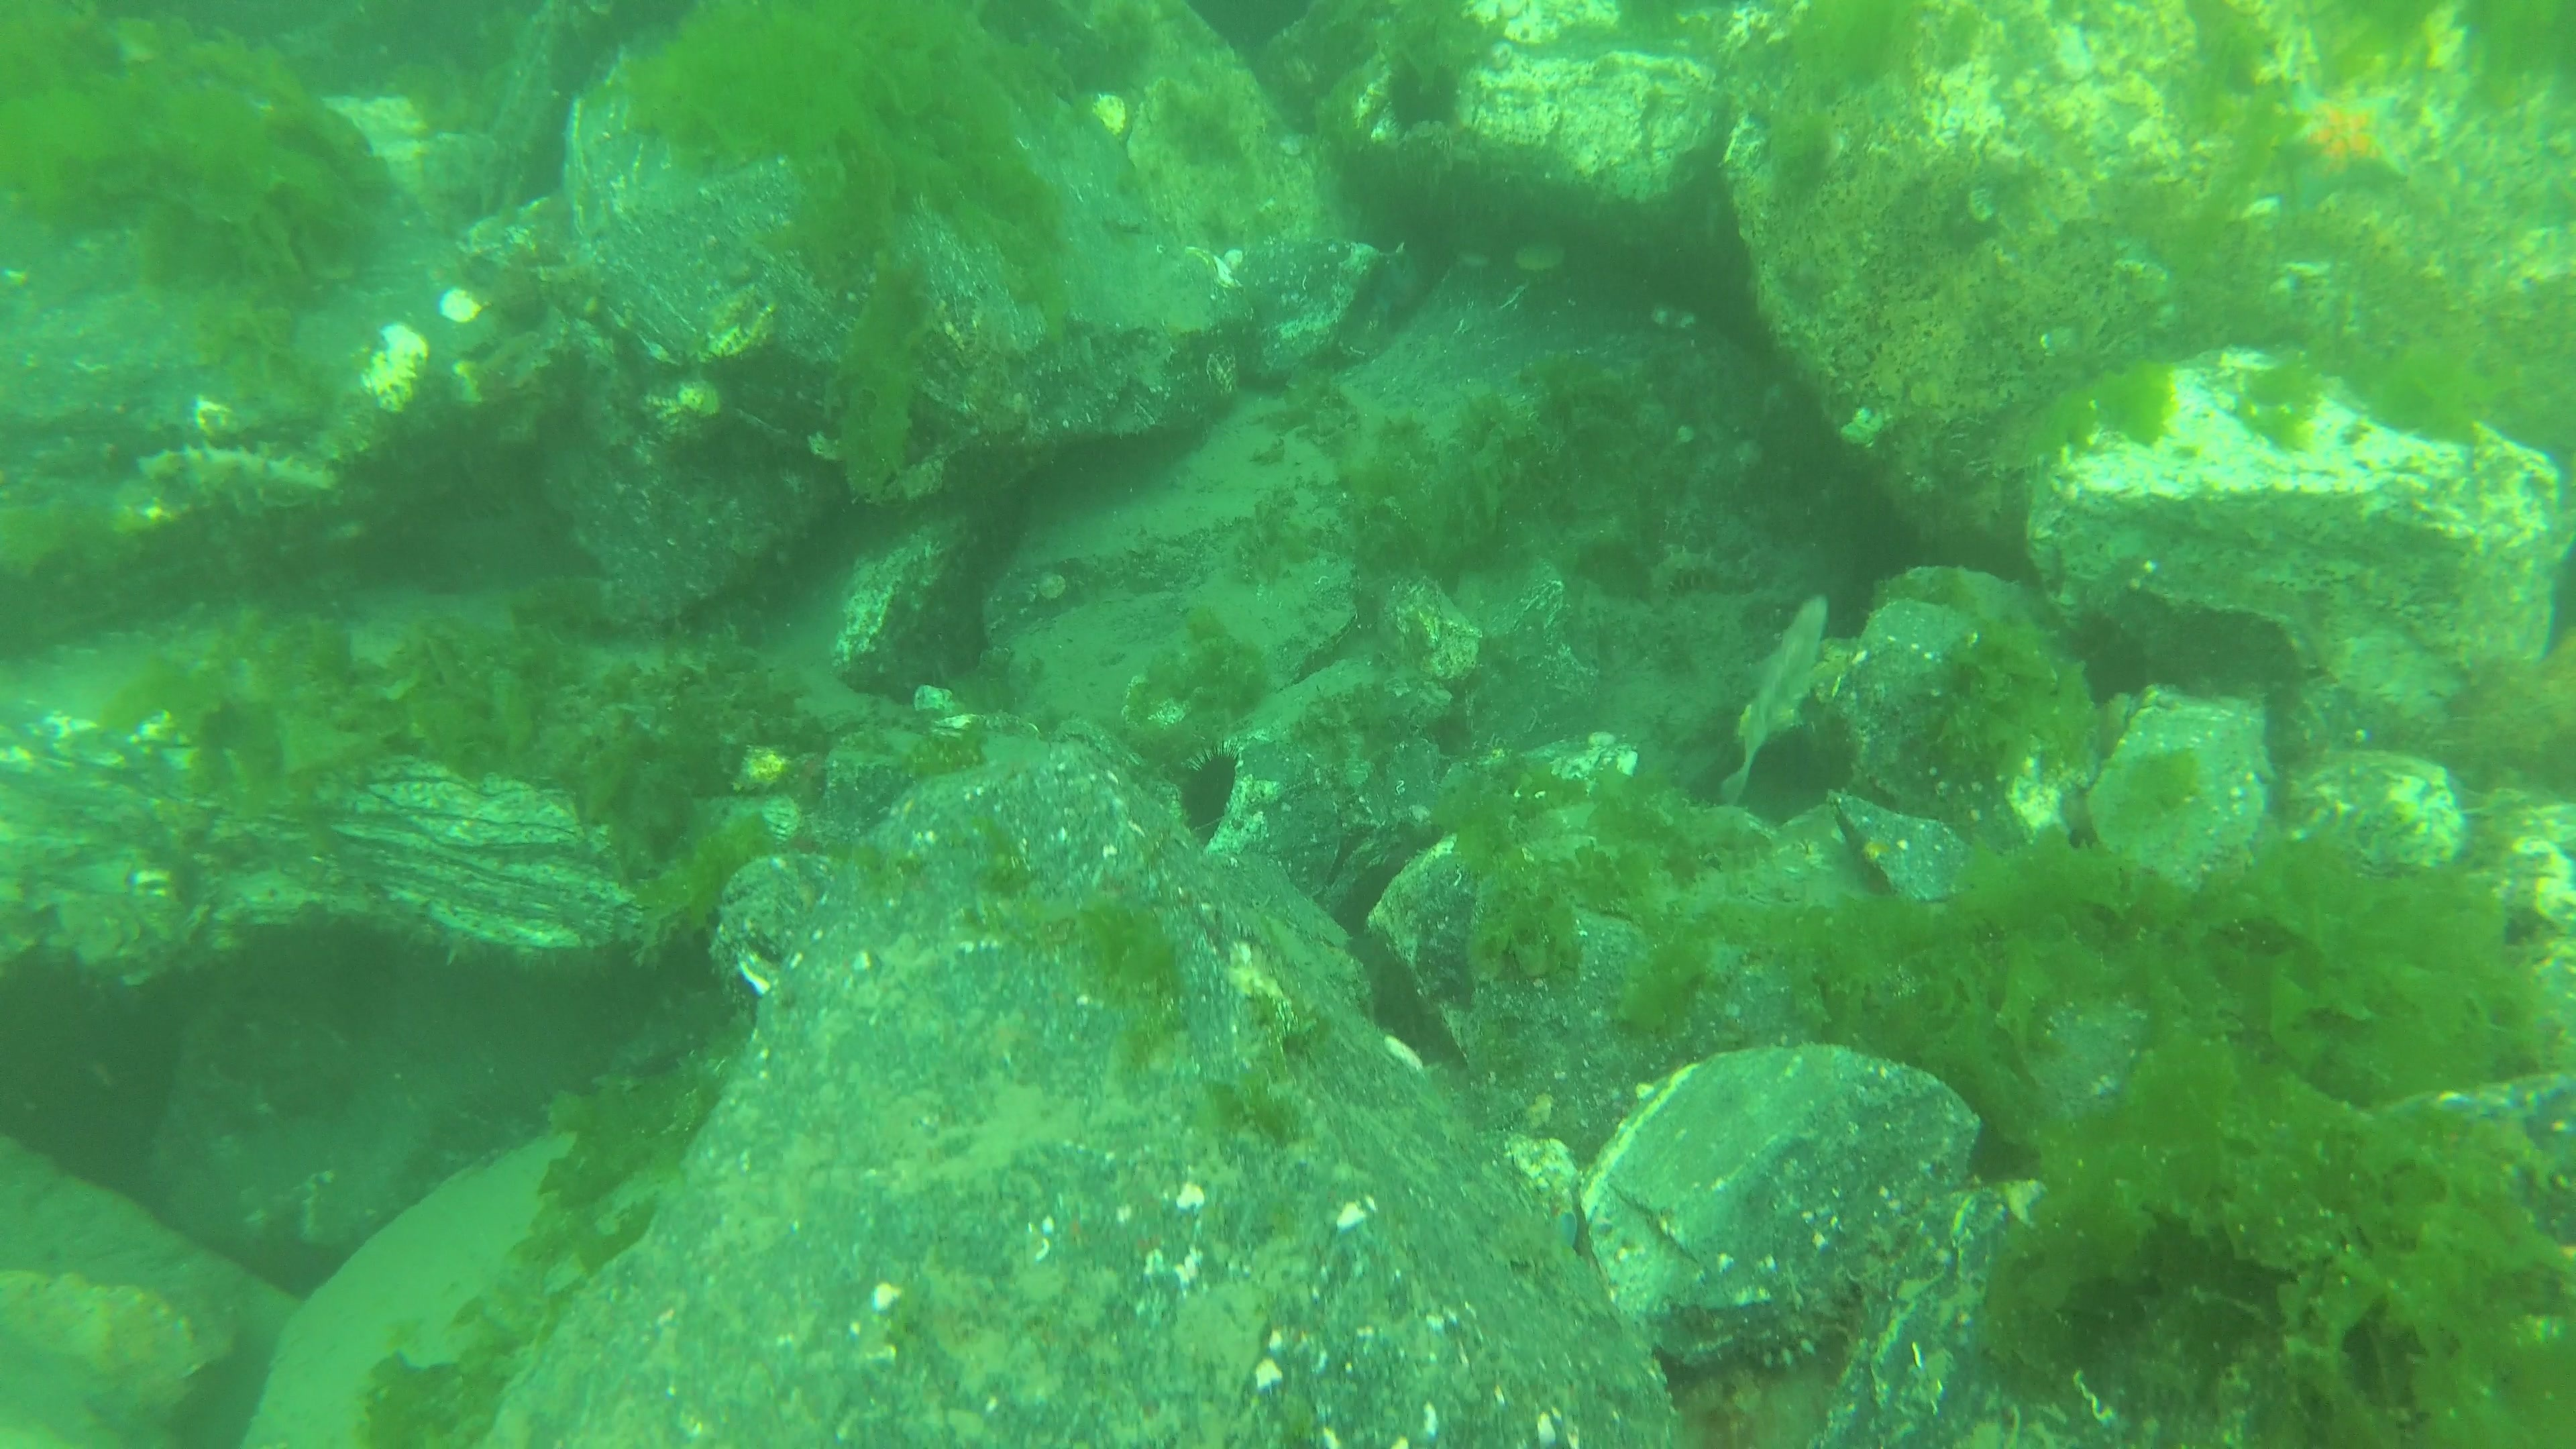echinus: (1378, 53, 1474, 143), (1164, 736, 1240, 844)
starfish: (2265, 71, 2420, 214)
